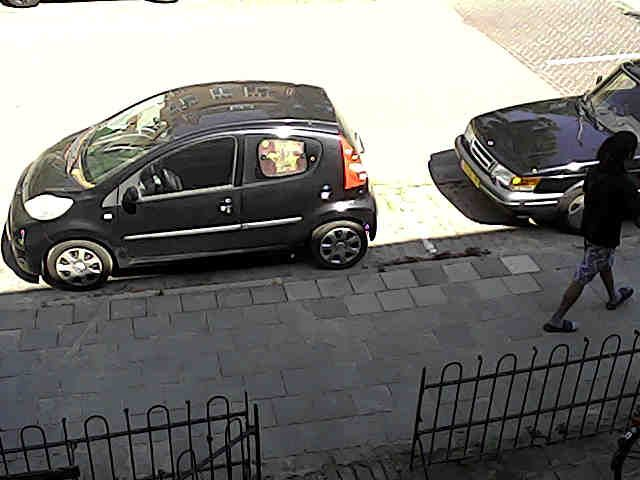male: (543, 131, 639, 331)
suv: (2, 82, 376, 289), (455, 61, 639, 230), (0, 0, 40, 7)
